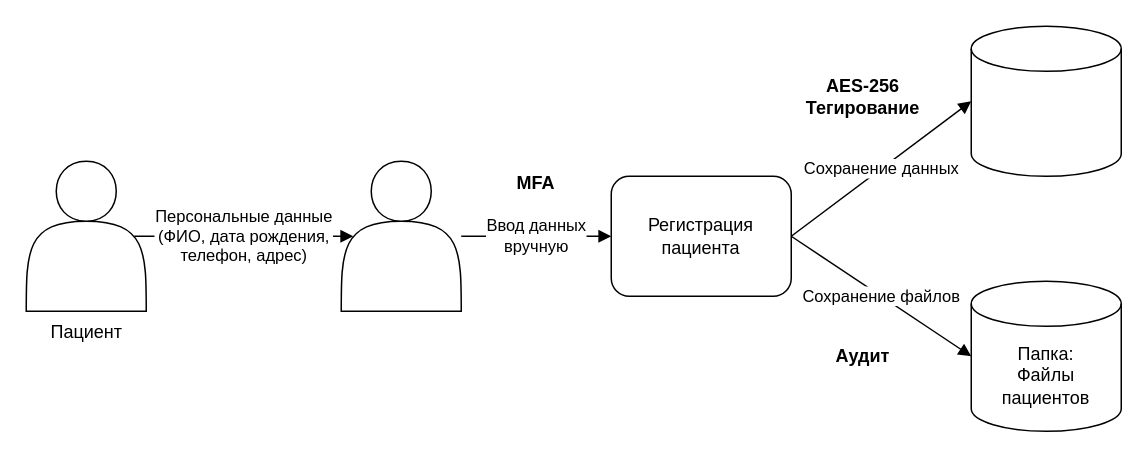
The diagram is 1148 pixels wide and 458 high, and some of its shapes have lost their labels. Here are the shapes that lost their labels. From the top down, the centre of each, then its label:
At (x=1045, y=100): "Excel: Список пациентов".
At (x=400, y=235): "Сотрудник ресепшена".
